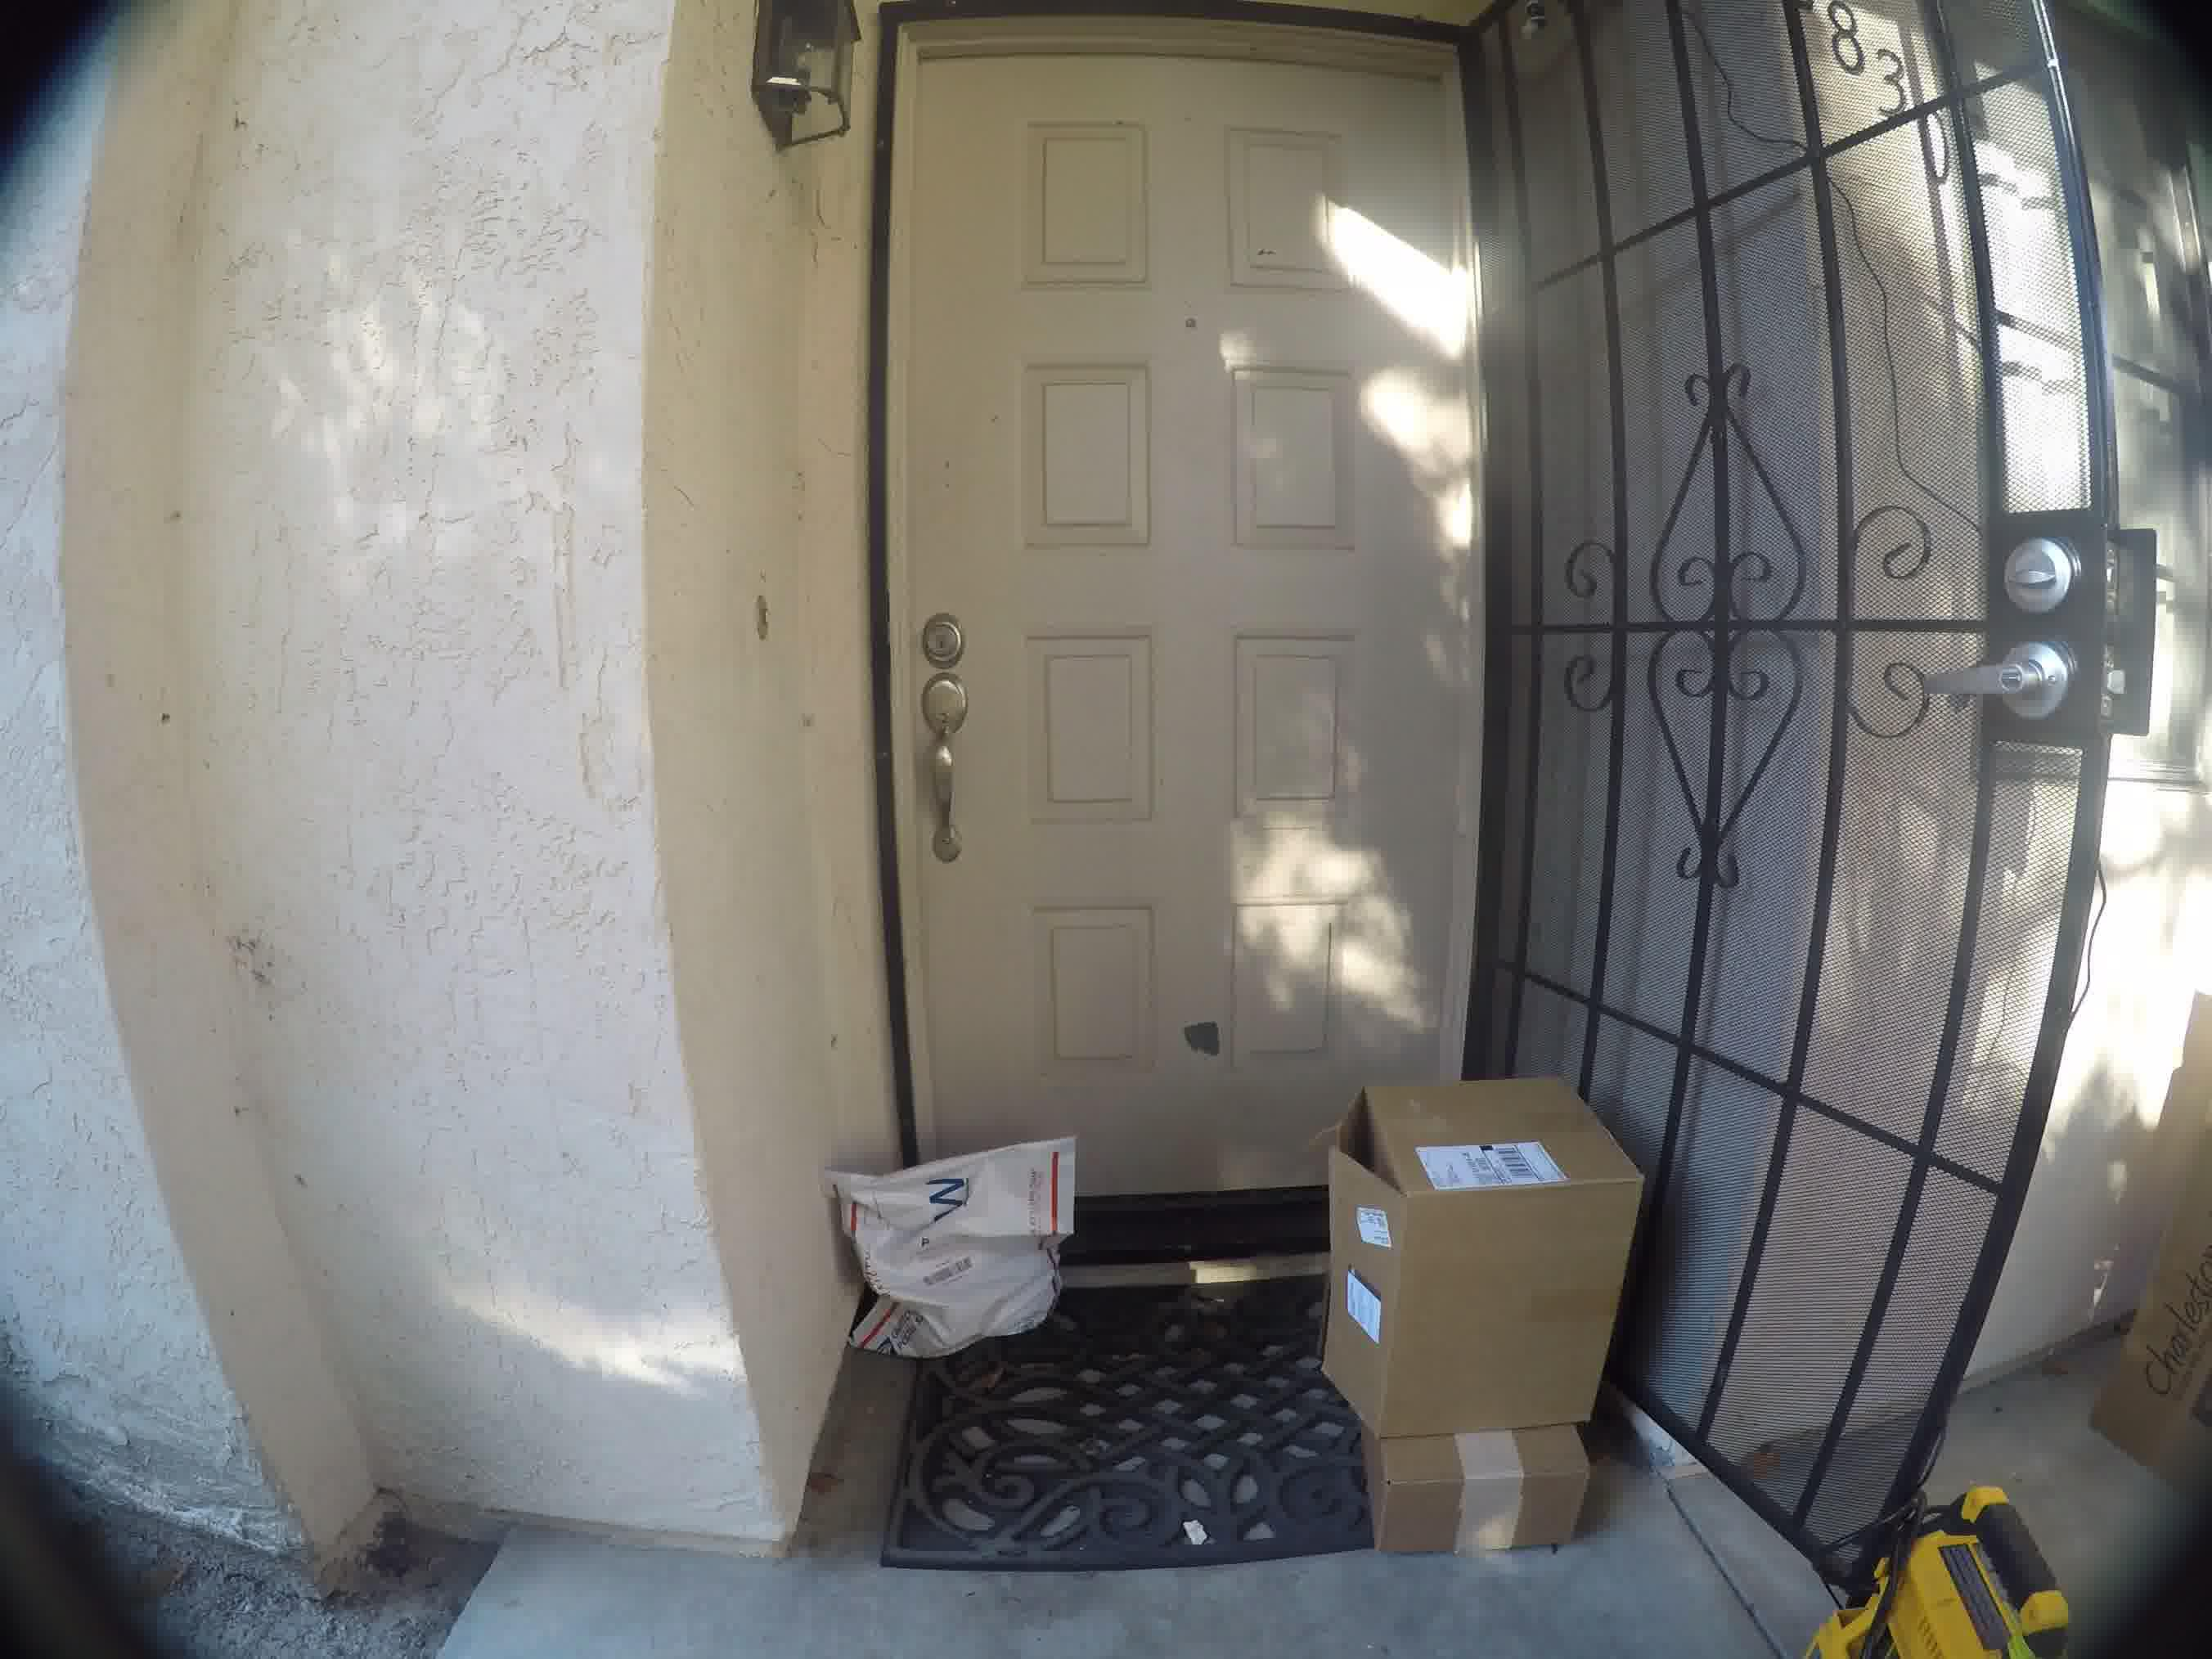box: (1308, 1072, 1646, 1422), (1357, 1425, 1618, 1605)
plastic_bag: (817, 1133, 1083, 1380)
